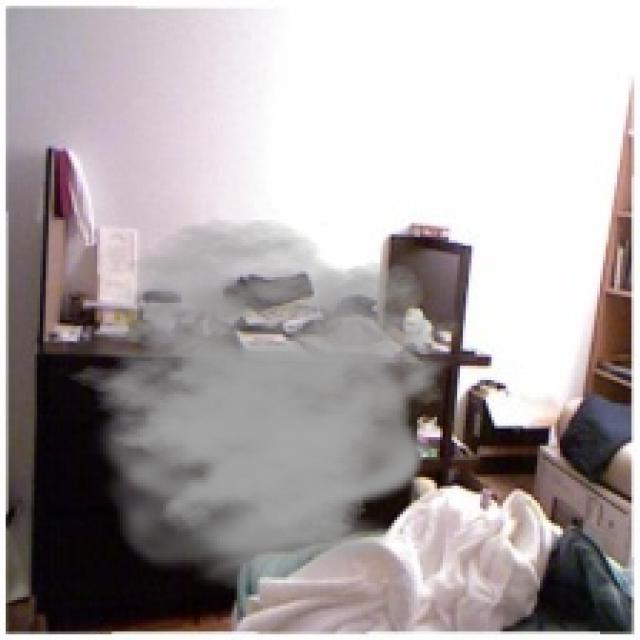smoke: (49, 217, 460, 589)
